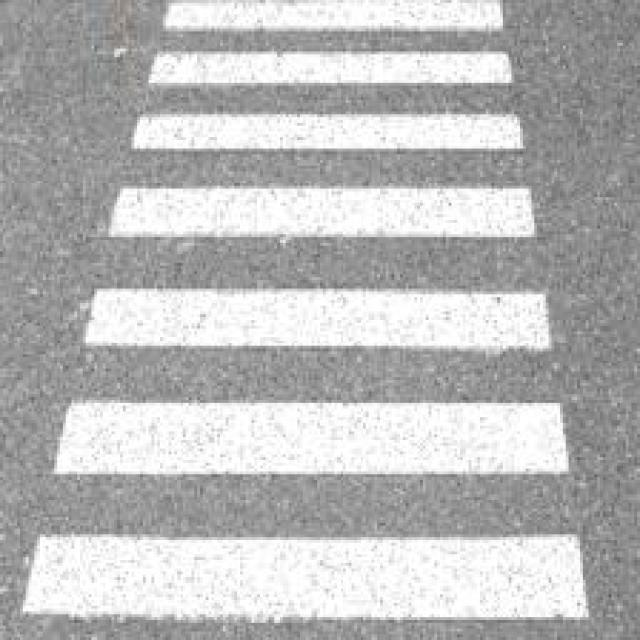crosswalk: (4, 4, 605, 640)
